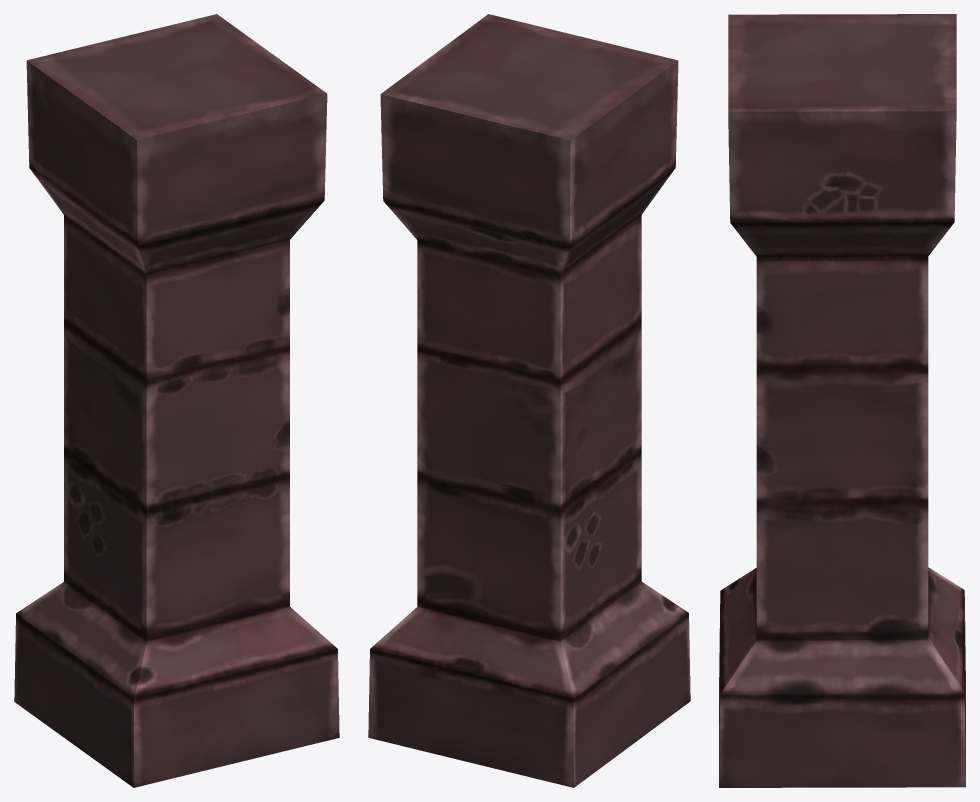
Rendered from Pillar.fbx.
3 views of the same model, side by side, from view 1: azimuth 30°, elevation 25°; view 2: azimuth 150°, elevation 25°; view 3: azimuth 270°, elevation 25° (orthographic). The views are drawn at different scales.
Parts seen in each view (by area): view 1: Pillar; view 2: Pillar; view 3: Pillar.
Boxes of the visible parts, left/top/right/bottom form: Pillar: left=14, top=14, right=339, bottom=787; Pillar: left=368, top=14, right=690, bottom=787; Pillar: left=719, top=14, right=965, bottom=787.
Size of the model in its own units: 101 by 300 by 99.79.
1 material, 1 textured.
